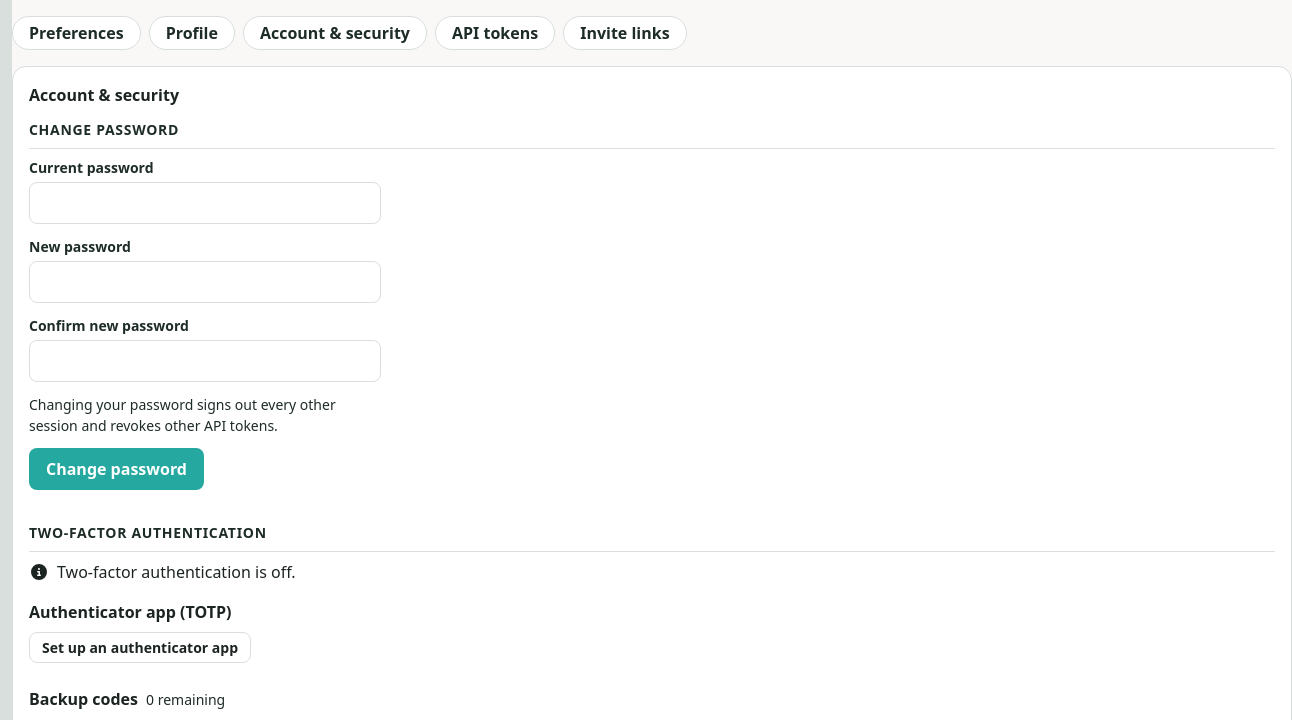
Test: SecuritySettingsPage › changes the password through the new endpoint
This screenshot has width=1292, height=720.
Type "old-pass" into the password field labelled "Current password" at (205, 203), box [29, 182, 381, 224]
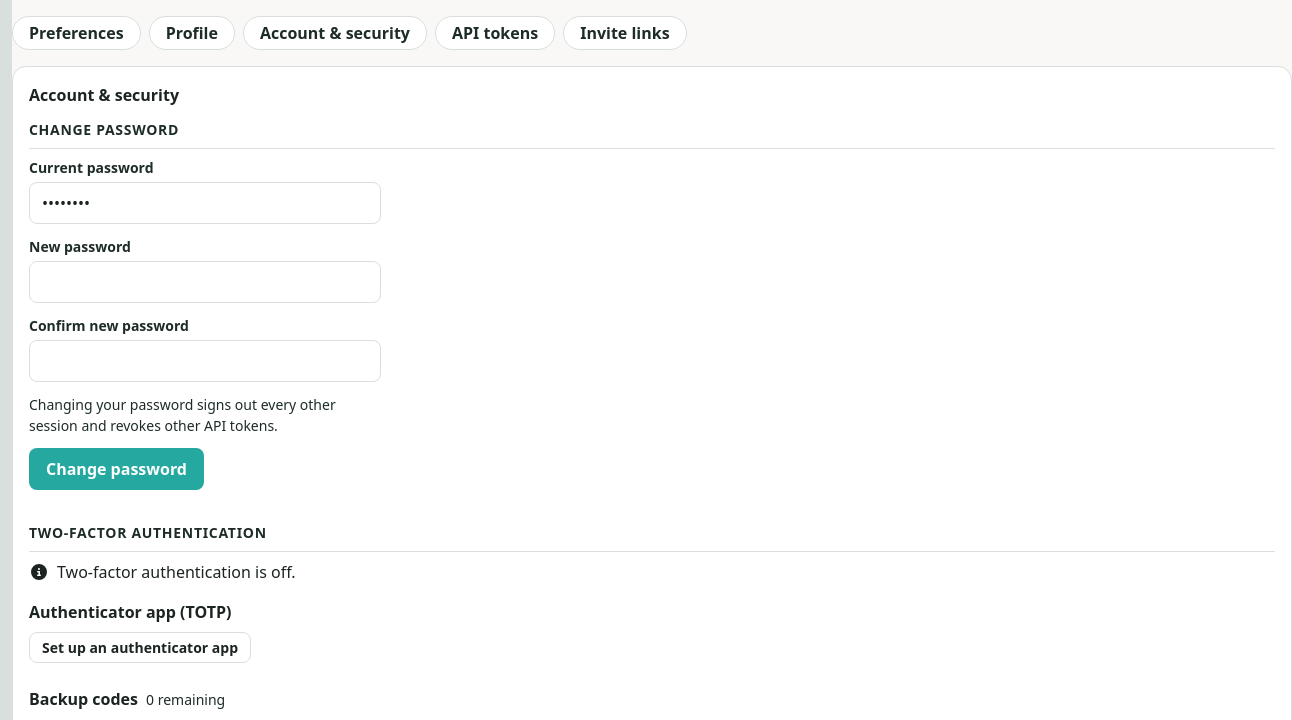
Type "new-secret" into the password field labelled "New password" at (205, 282), box [29, 261, 381, 303]
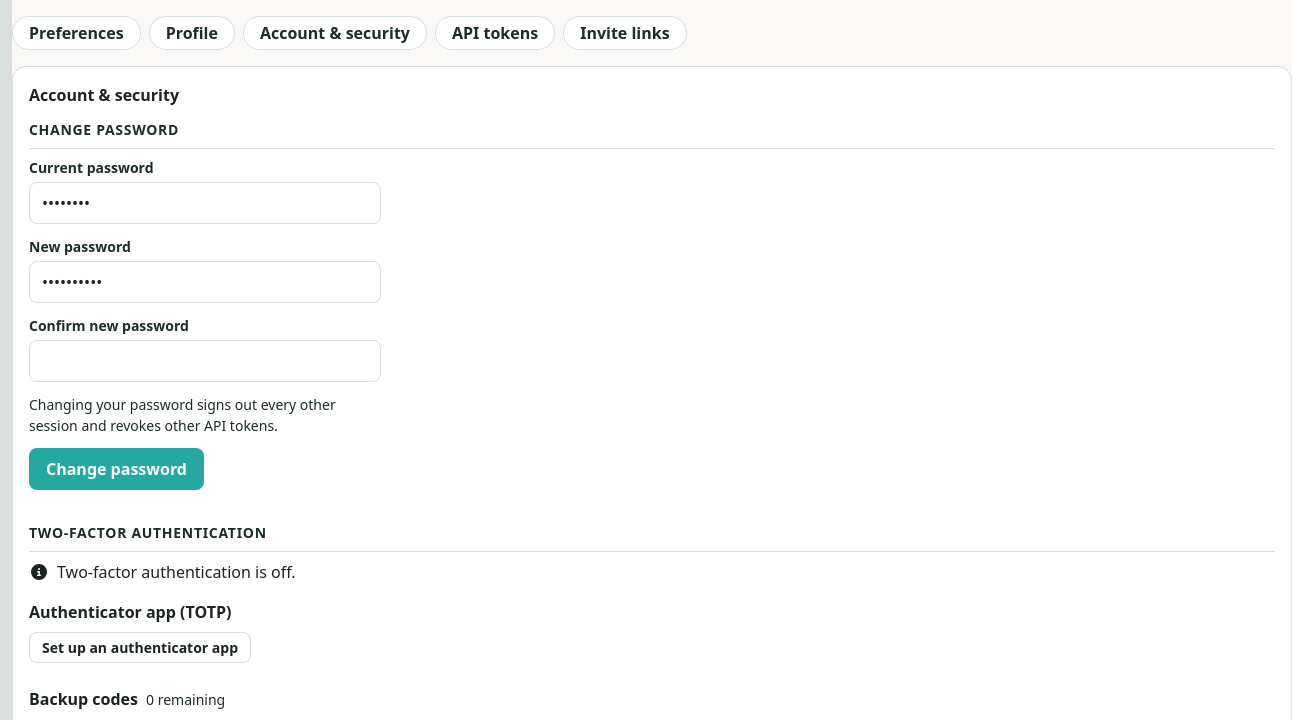
Type "new-secret" into the password field labelled "Confirm new password" at (205, 361), box [29, 340, 381, 382]
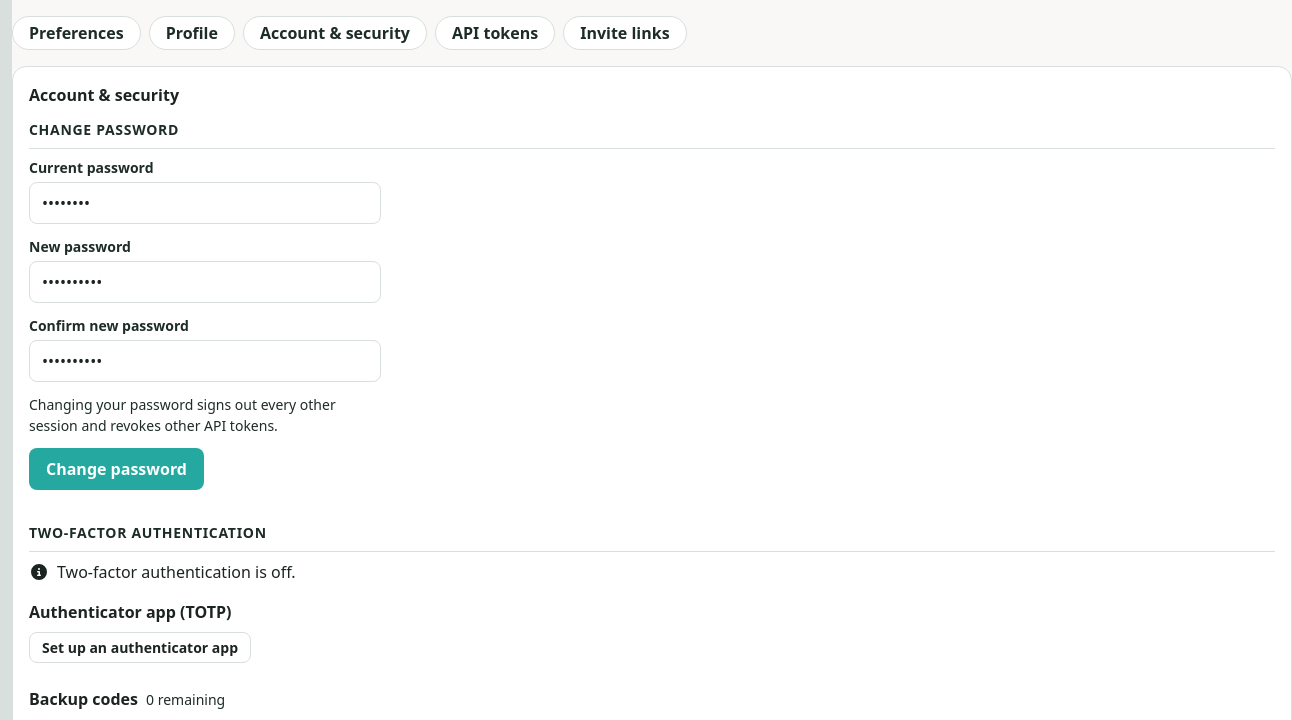
Submit the form with class "security__form", box [29, 157, 381, 490]
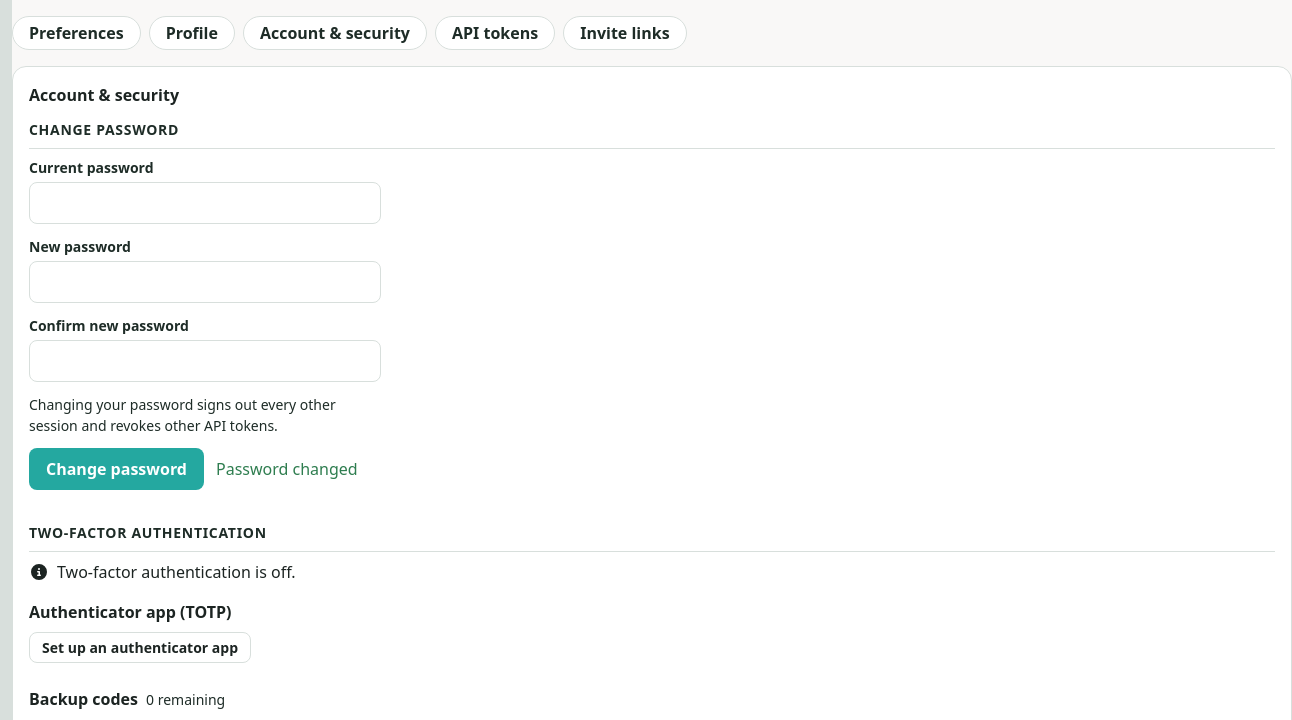
expect the text "Password changed" is shown: met, box [216, 457, 358, 481]
